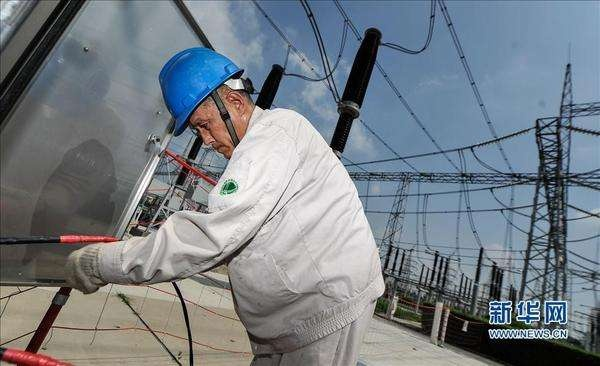blue: (155, 46, 255, 159)
